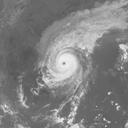cyclone: (45, 46, 87, 87)
